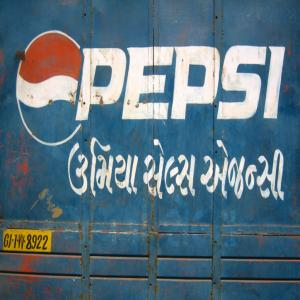Vehicle-registration-plate: (8, 228, 53, 253)
